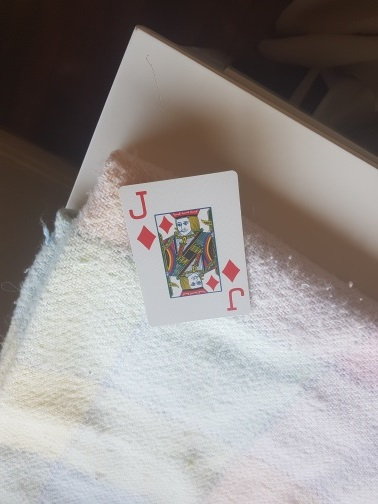jack: (118, 169, 251, 325)
